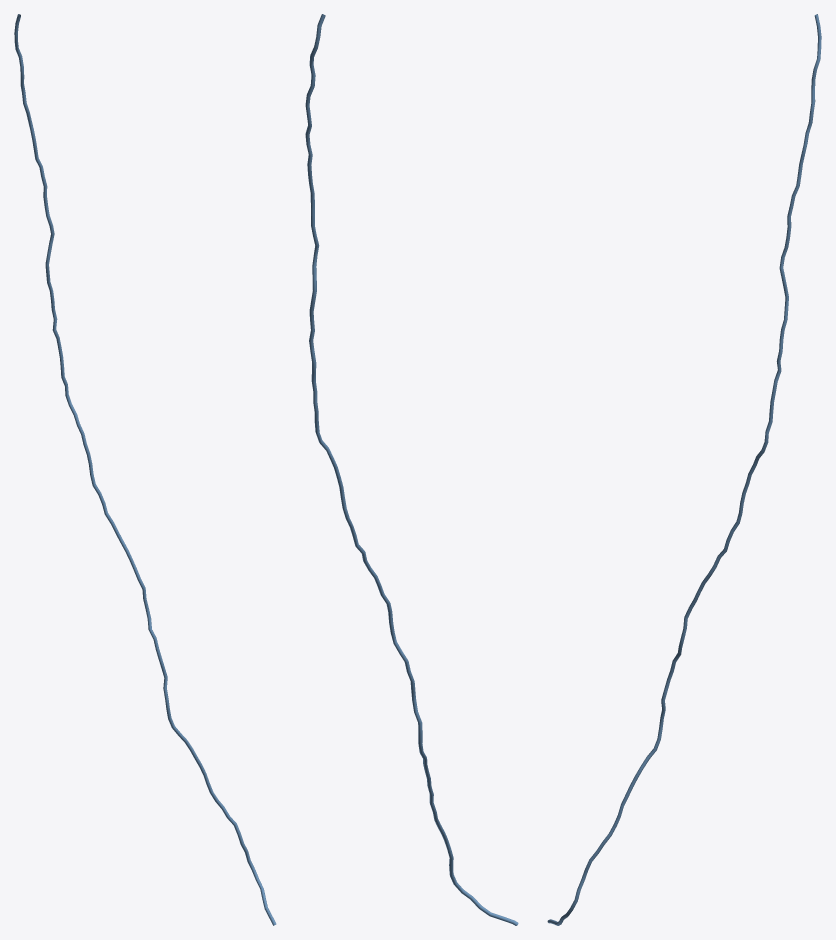
Rendered from sweep315.fbx.
3 views of the same model, side by side, from view 1: azimuth 90°, elevation 25°; view 2: azimuth 150°, elevation 25°; view 3: azimuth 270°, elevation 25° (orthographic). The views are drawn at different scales.
Visible parts, largest first — view 1: sweep315; view 2: sweep315; view 3: sweep315.
Boxes of the visible parts, x1=… form: sweep315: x1=14, y1=14, x2=276, y2=925; sweep315: x1=305, y1=14, x2=518, y2=925; sweep315: x1=547, y1=14, x2=821, y2=925.
Bounding box in the file's own units: 0.4692 × 5.25 × 1.4.
